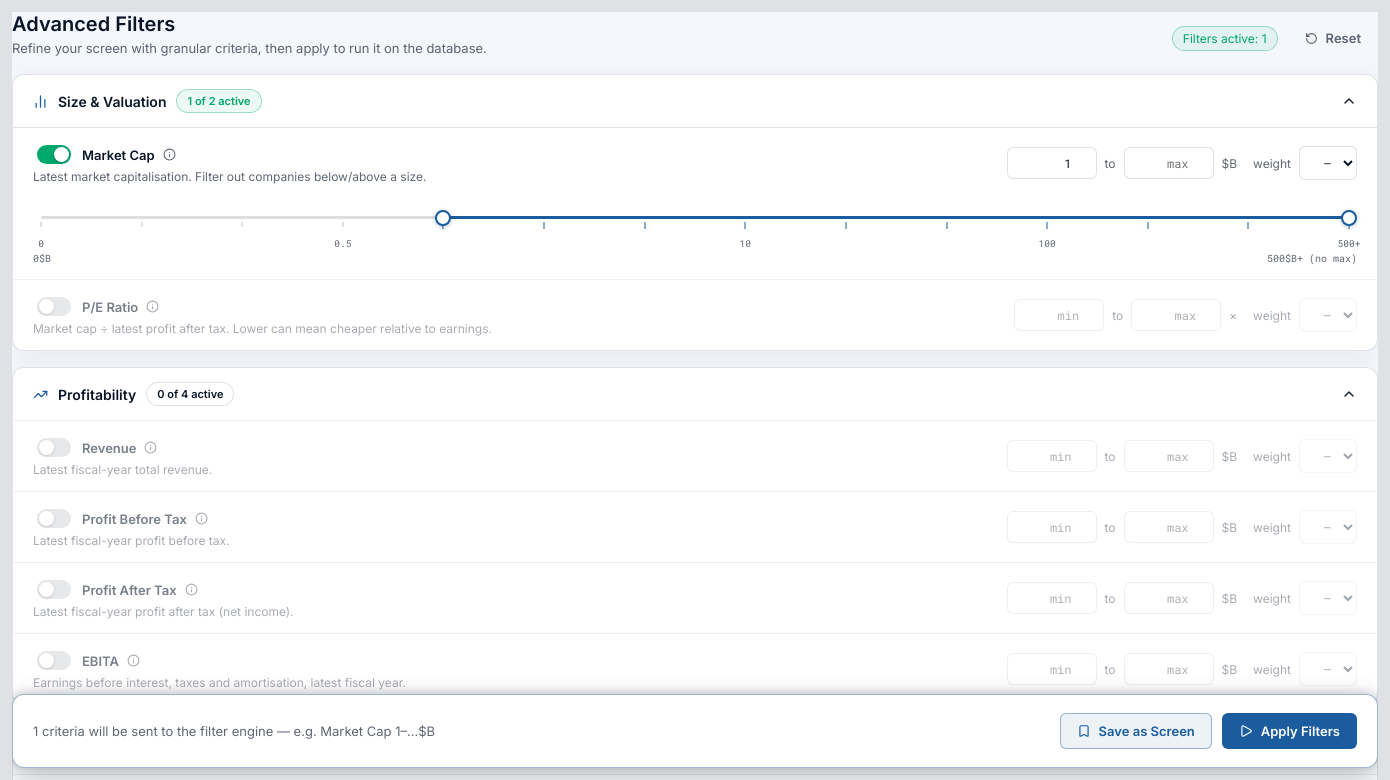
Test: Advanced Filters - Save as Screen › asks for a name, then saves the criteria currently in the editor
Click the button "Save as Screen". click: [1136, 731]
box: [1060,713,1212,749]
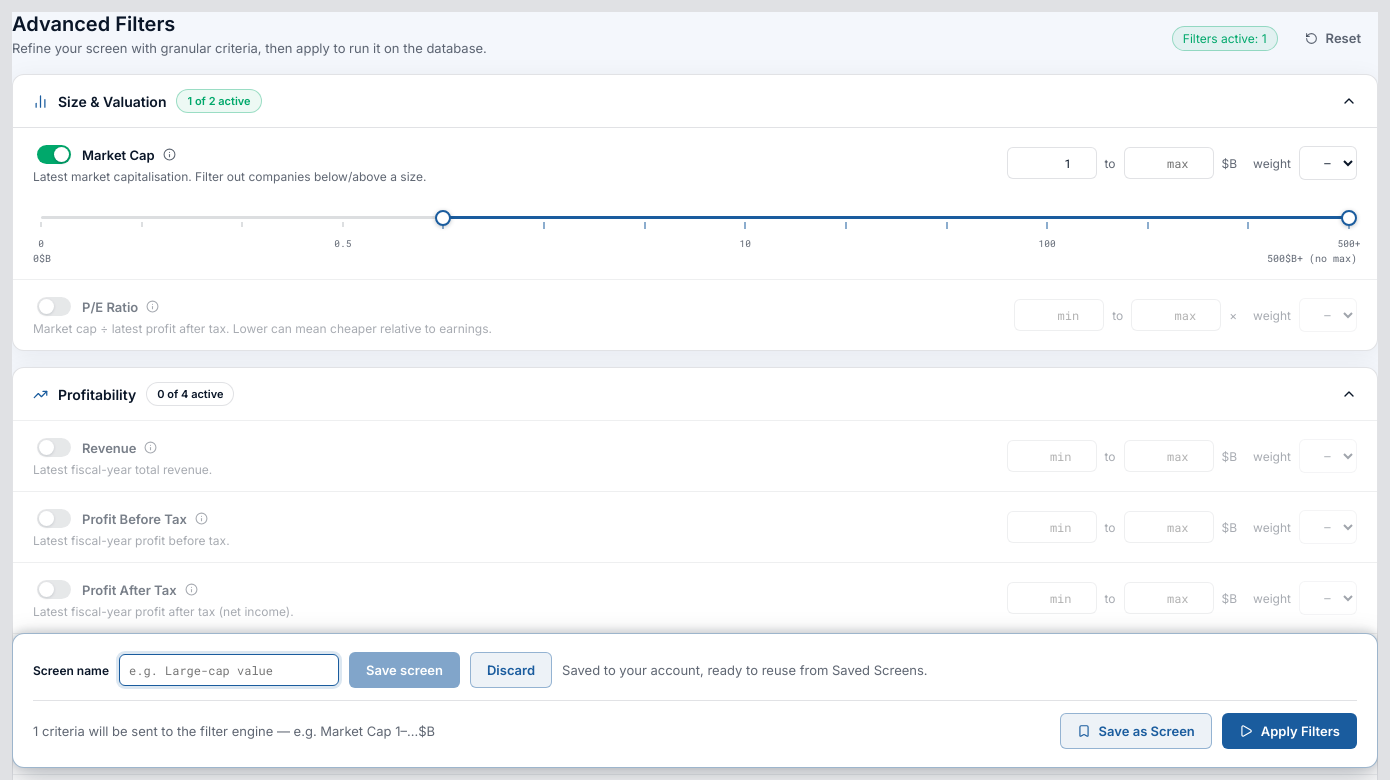
Type "Large-cap value" into the field labelled "Screen name". click: [229, 670]
box: [119,654,339,686]
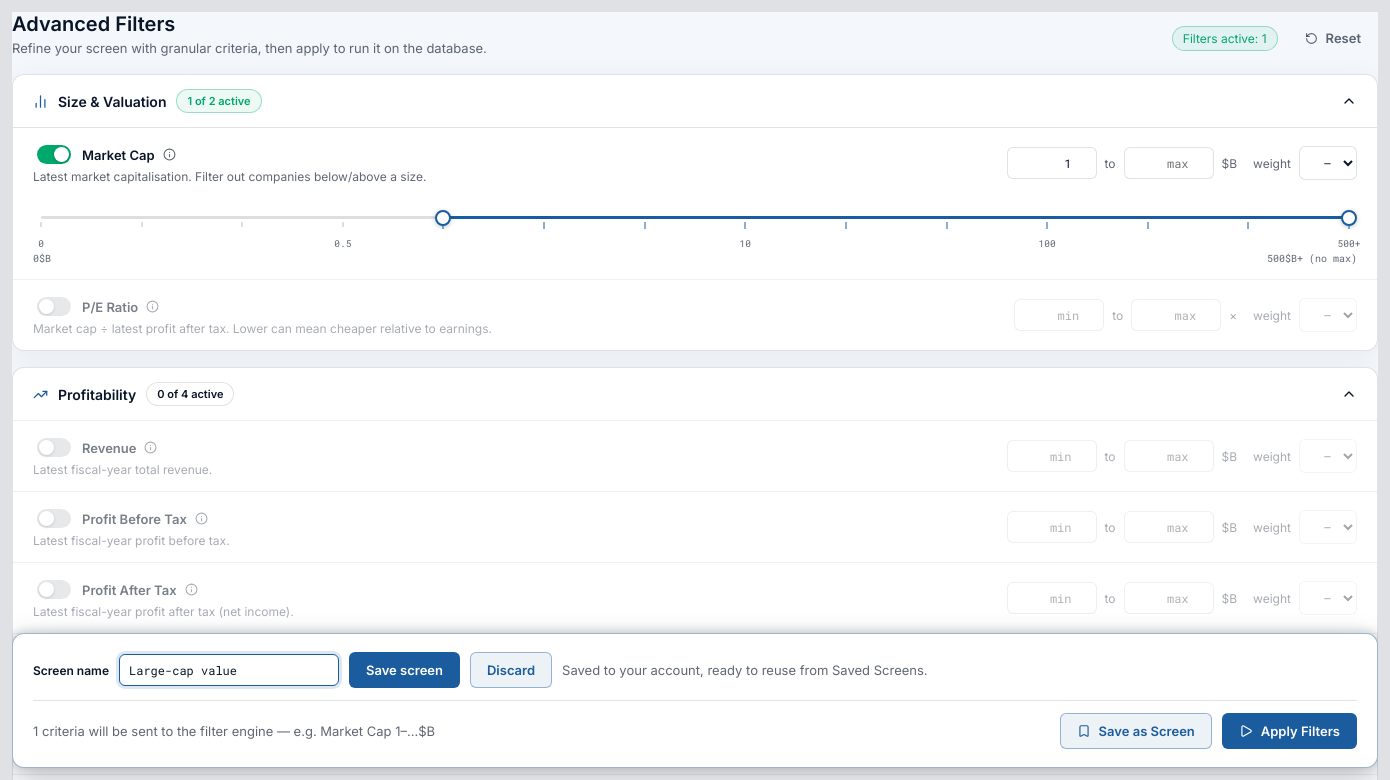
Click the button "Save screen". click: [404, 670]
box: [349,652,460,688]
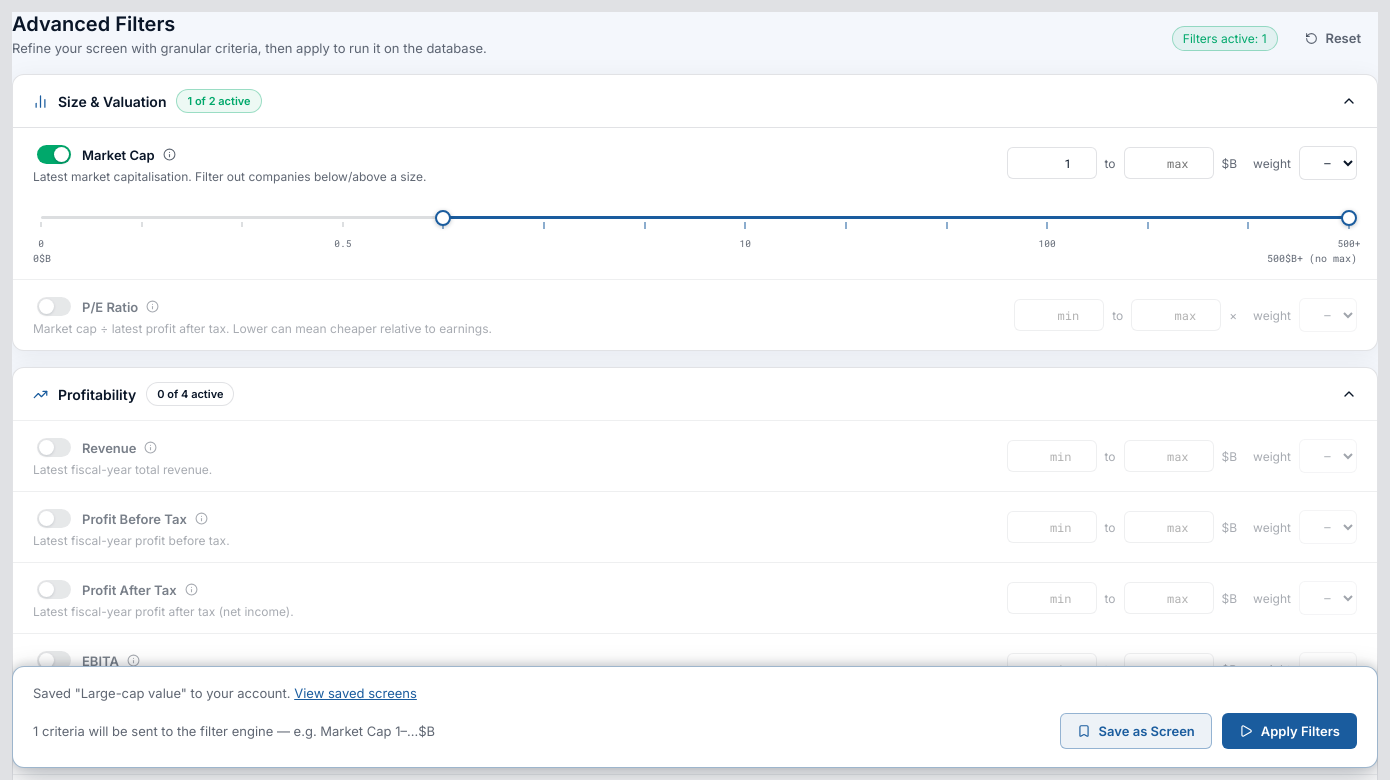
Now the text "Saved \"Large-cap value\" to your account. View saved screens" is shown, box [33,685,417,701]
